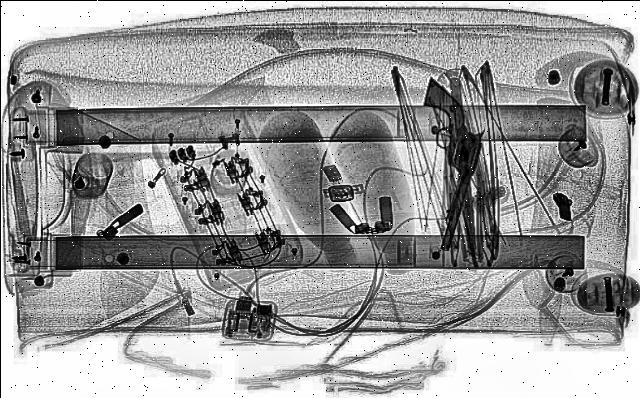Gun: (379, 75, 497, 249)
